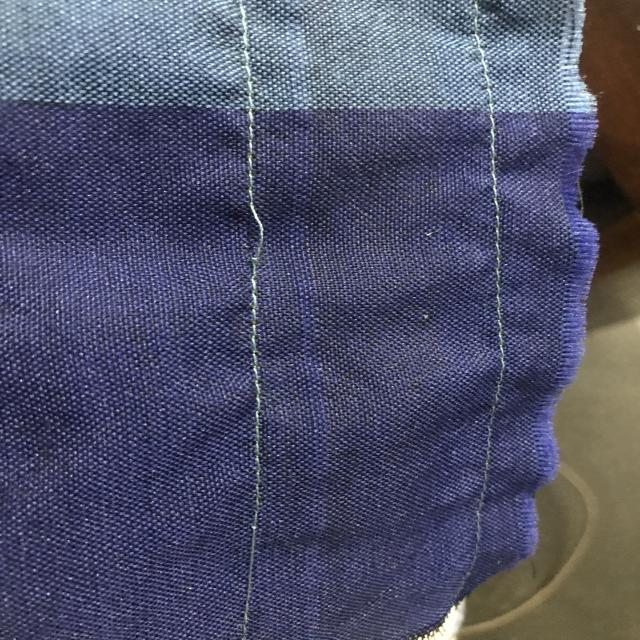good: (237, 116, 267, 170)
skip: (234, 189, 287, 281)
